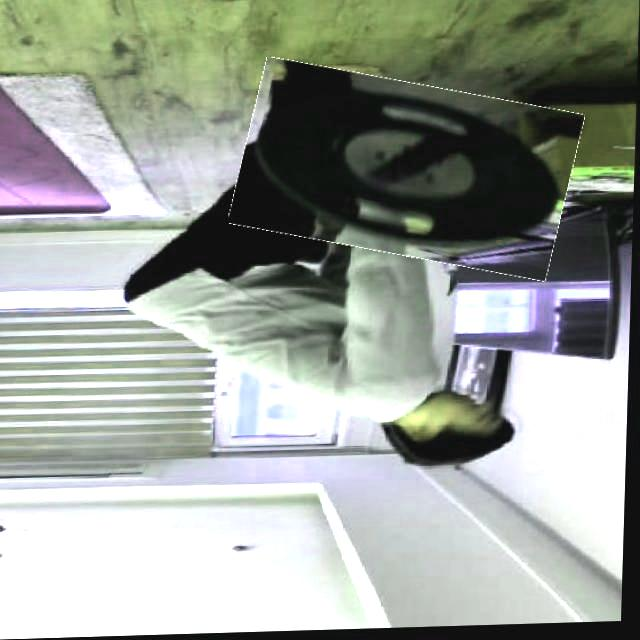barbell: (236, 68, 580, 277)
